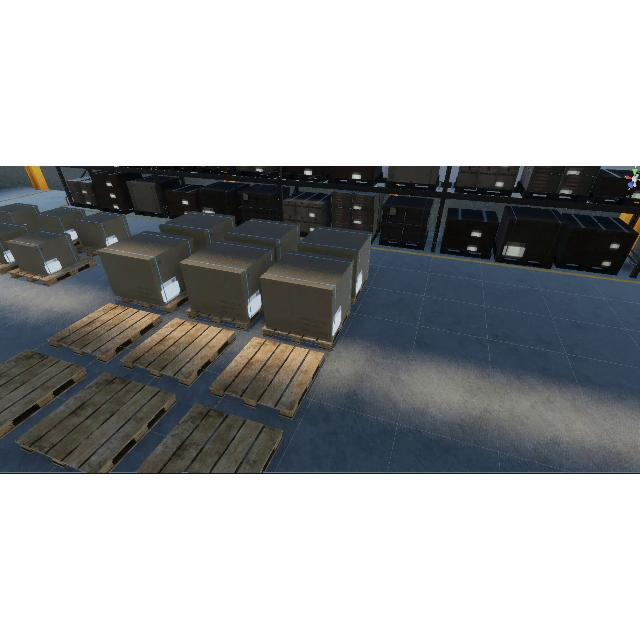wooden_pallet: (209, 338, 325, 420), (119, 318, 236, 388), (47, 302, 162, 364), (262, 308, 351, 351), (186, 306, 264, 331)
